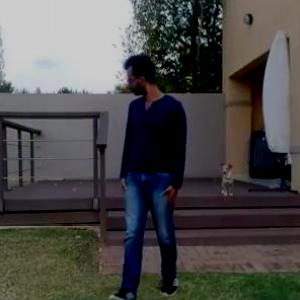follow: (94, 38, 190, 278)
